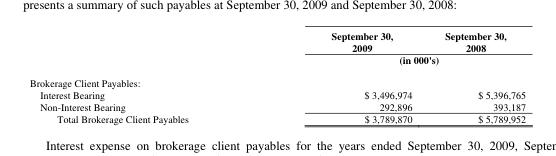table: (29, 28, 525, 124)
table column: (29, 28, 259, 124), (259, 28, 427, 124), (427, 28, 525, 124)
table column header: (29, 28, 525, 71)
table projected row header: (29, 71, 525, 88)
table row: (29, 28, 525, 53), (29, 53, 525, 71), (29, 71, 525, 88), (29, 111, 525, 124), (29, 99, 525, 111), (29, 88, 525, 99)
table spanning cell: (259, 53, 525, 71)
